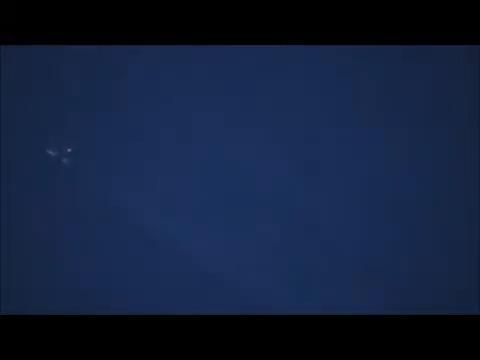Plane: (29, 139, 95, 171)
